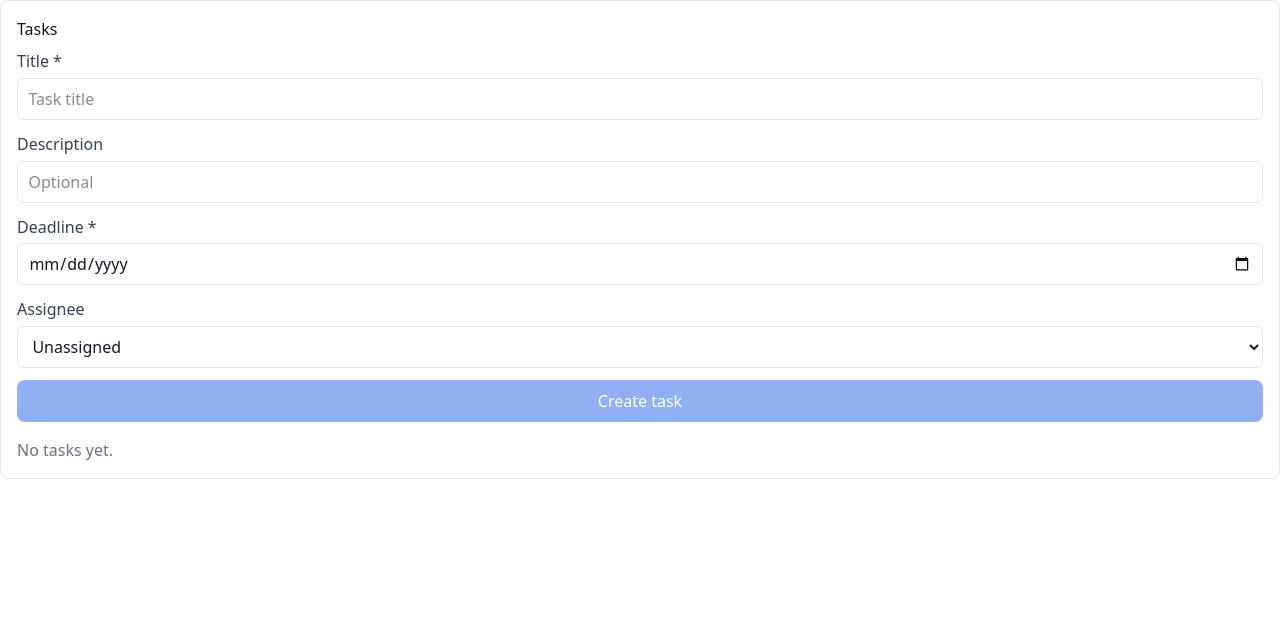
it: TasksSection › creates a task with assignee from the directory picker
This screenshot has width=1280, height=624.
Expected: the button with test id "task-create" is disabled, [17,380,1263,422]
Type "Book venue" into the field with test id "task-title".
click(640, 99); type("Book venue")  # box [17,78,1263,120]
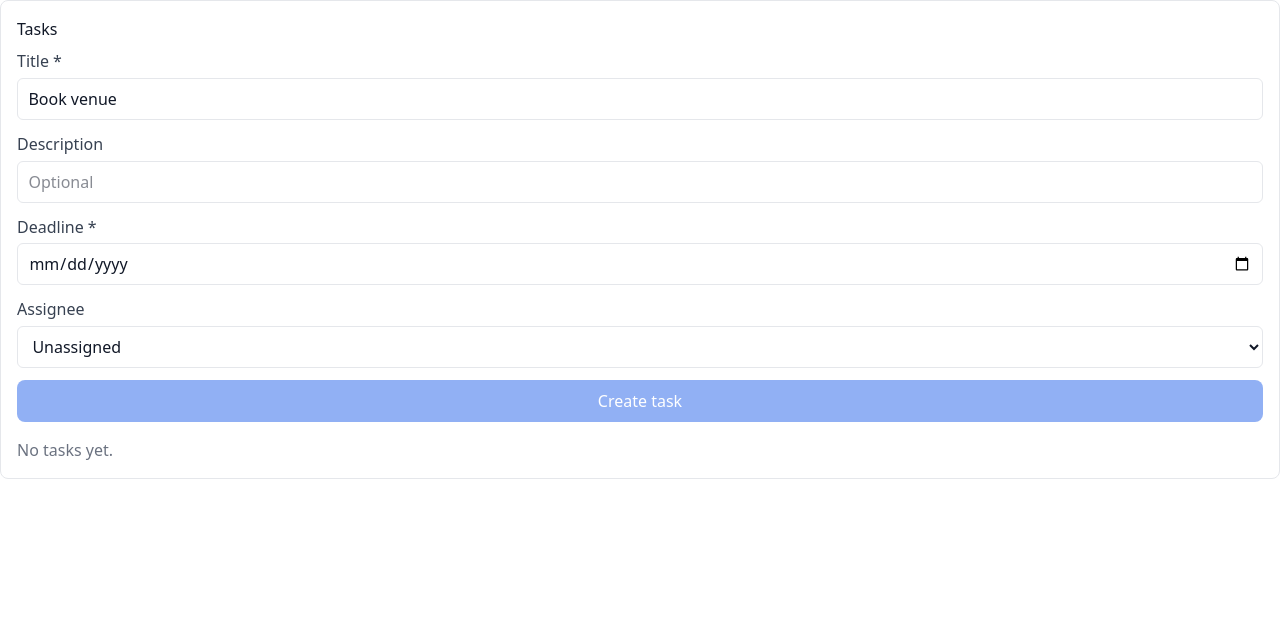
Type "2026-05-10" into the date field with test id "task-deadline".
click(640, 264); type("2026-05-10")  # box [17,243,1263,285]
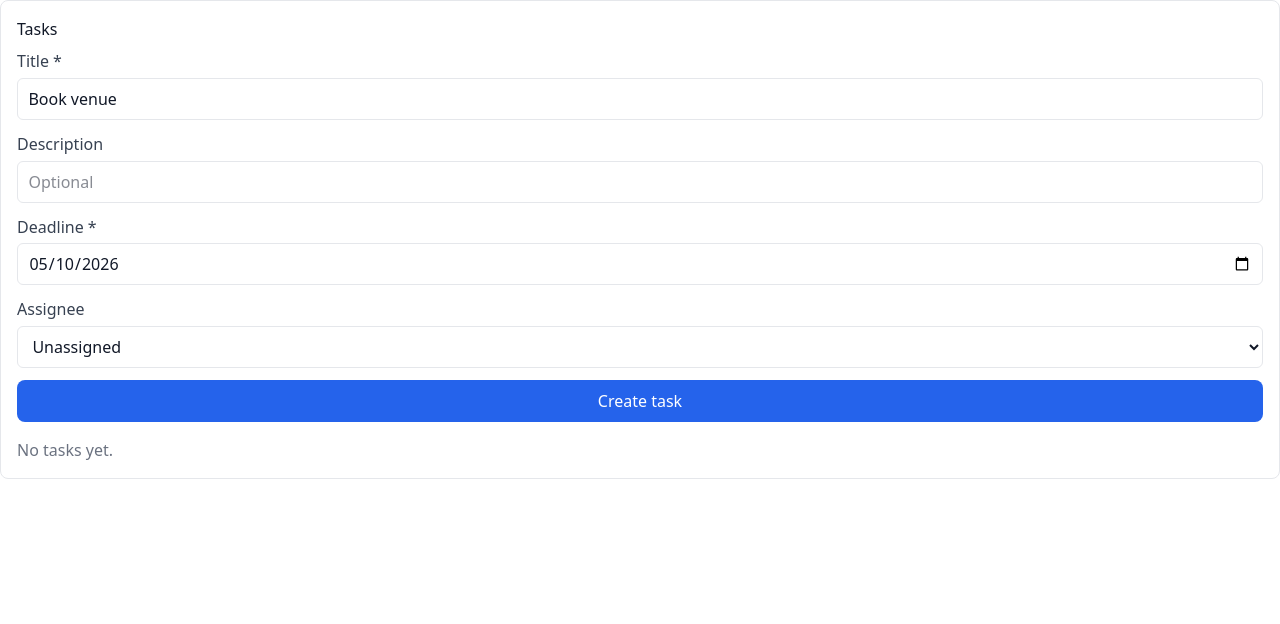
Expected: the button with test id "task-create" is enabled, [17,380,1263,422]
Select "Joy Ada (joy@x.com)" in the dropdown with test id "task-assign-select" at (640, 347), box [17,326,1263,368]
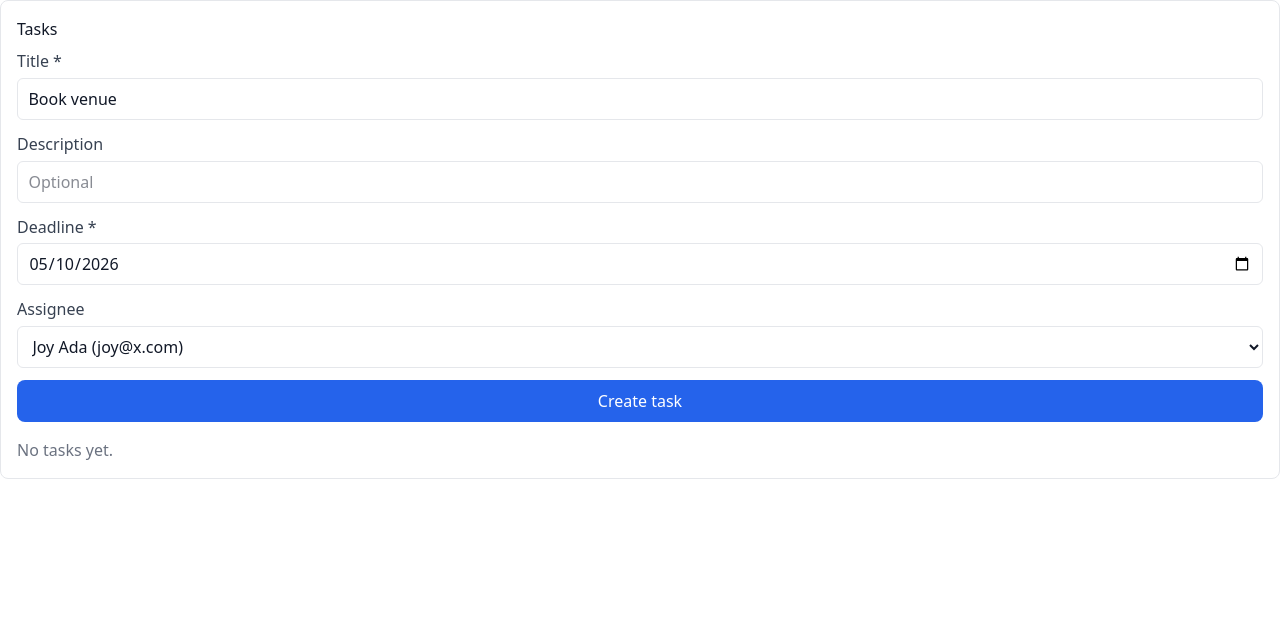
Submit the form with test id "task-create-form", box [17,49,1263,422]
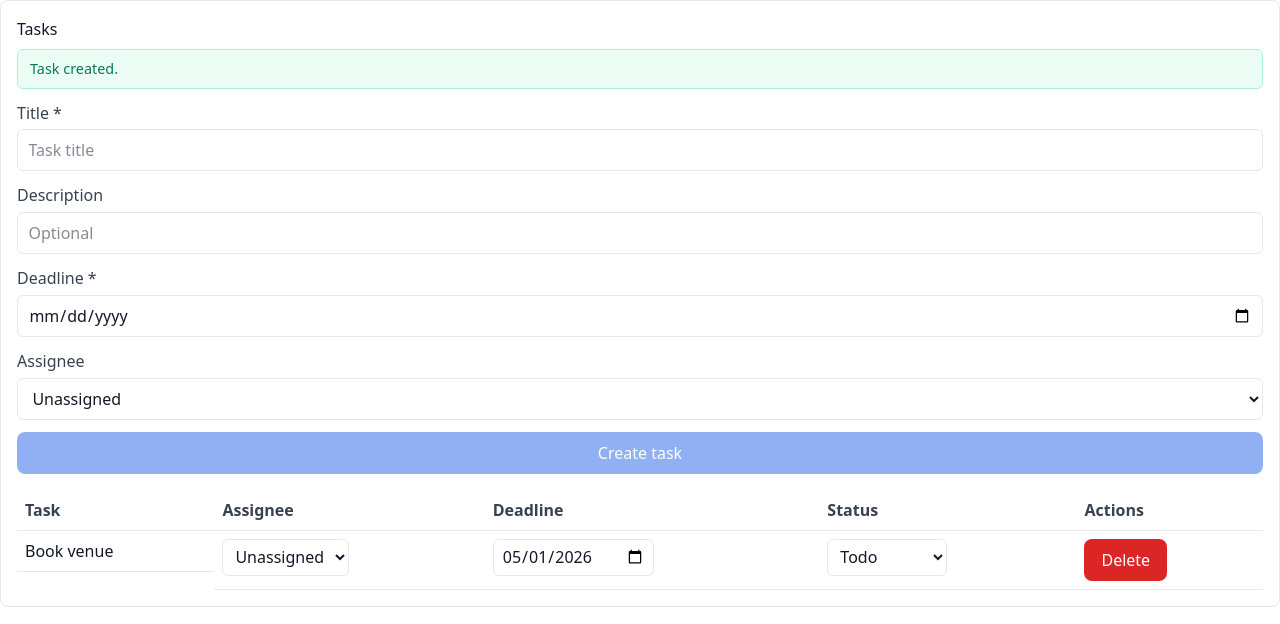
Expected: the message with test id "tasks-notice" shows "created", [30,59,118,78]
